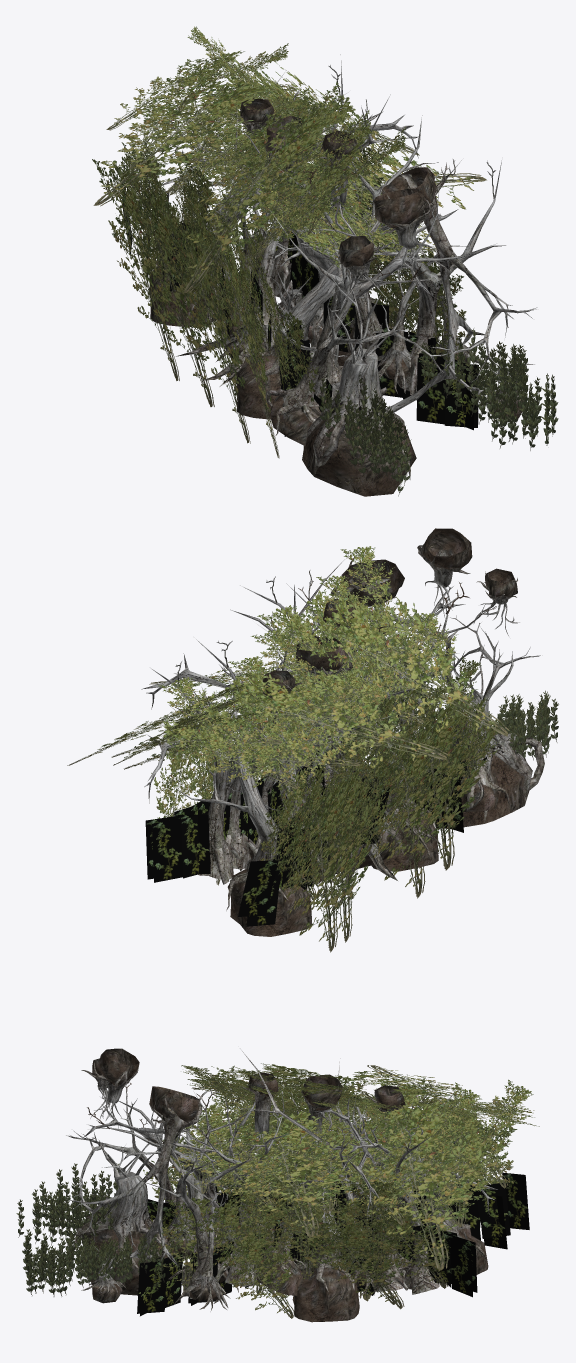
3 views of the same model, one above another, from view 1: azimuth 30°, elevation 25°; view 2: azimuth 150°, elevation 25°; view 3: azimuth 270°, elevation 25° (orthographic). The views are drawn at different scales.
Visible parts, largest first — view 1: Material_#131, wall_03, Material_#10, Material_#134; view 2: Material_#131, wall_03, Material_#10, Material_#134; view 3: Material_#131, wall_03, Material_#10, Material_#134.
Part boxes in pixels (x1,y1,x2,y2): Material_#131: (92, 26, 486, 458); wall_03: (151, 54, 537, 479); Material_#10: (149, 98, 523, 496); Material_#134: (319, 328, 558, 496); Material_#131: (67, 546, 509, 952); wall_03: (141, 544, 544, 910); Material_#10: (227, 528, 526, 936); Material_#134: (347, 638, 558, 760); Material_#131: (137, 1063, 539, 1318); wall_03: (66, 1048, 498, 1311); Material_#10: (81, 1048, 488, 1322); Material_#134: (16, 1163, 180, 1296).
Bounding box in the file's own units: 17 × 15.18 × 23.84.
